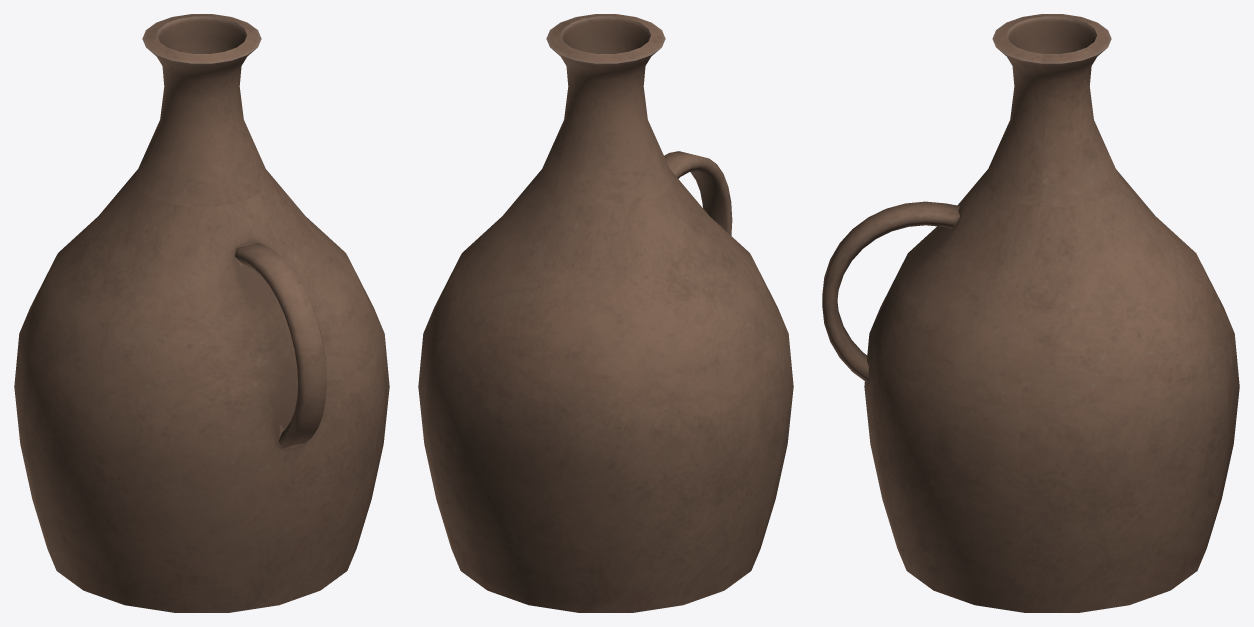
Rendered from SM_vase_2.fbx.
The picture shows the model from 3 angles, left to right: view 1: azimuth 30°, elevation 25°; view 2: azimuth 150°, elevation 25°; view 3: azimuth 270°, elevation 25°; orthographic projection.
Visible parts, largest first — view 1: SM_vase_2_LOD0; view 2: SM_vase_2_LOD0; view 3: SM_vase_2_LOD0.
Part boxes in pixels (bbox=[...]): SM_vase_2_LOD0: bbox=[14, 14, 389, 612]; SM_vase_2_LOD0: bbox=[418, 14, 793, 612]; SM_vase_2_LOD0: bbox=[822, 14, 1239, 612].
Bounding box in the file's own units: 52.12 × 58.87 × 79.87.
